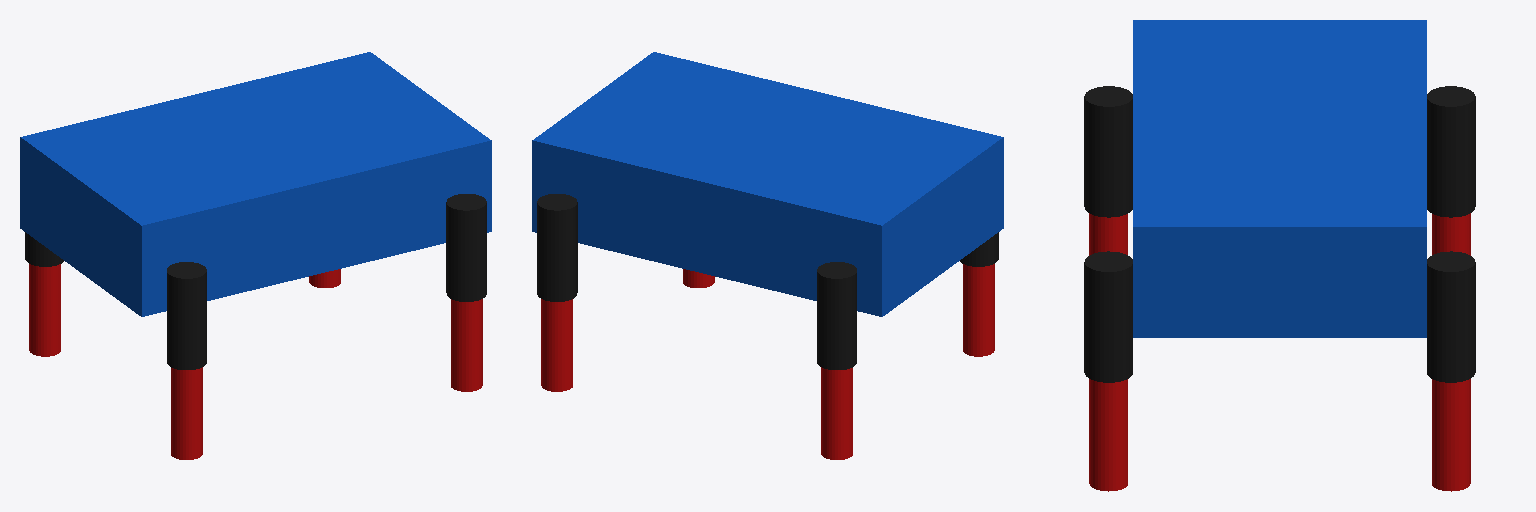
The robot description file, URDF, robot "robot_cuadrupedo":
<?xml version="1.0"?>
<robot name="robot_cuadrupedo">

  <material name="azul"><color rgba="0.1 0.4 0.8 1.0"/></material>
  <material name="rojo"><color rgba="0.8 0.1 0.1 1.0"/></material>
  <material name="negro"><color rgba="0.15 0.15 0.15 1.0"/></material>

  <link name="base_link">
    <inertial>
      <mass value="0.550"/>
      <inertia ixx="0.001" ixy="0.0" ixz="0.0" iyy="0.002" iyz="0.0" izz="0.002"/>
    </inertial>
    <visual>
      <geometry><box size="0.20 0.12 0.05"/></geometry>
      <material name="azul"/>
    </visual>
    <collision>
      <geometry><box size="0.20 0.12 0.05"/></geometry>
    </collision>
  </link>

  <link name="delantera_derecha_thigh">
    <inertial>
      <mass value="0.015"/>
      <inertia ixx="0.0001" ixy="0.0" ixz="0.0" iyy="0.0001" iyz="0.0" izz="0.0001"/>
    </inertial>
    <visual>
      <origin xyz="0 0 -0.025" rpy="0 0 0"/>
      <geometry><cylinder radius="0.01" length="0.05"/></geometry>
      <material name="negro"/>
    </visual>
    <collision>
      <origin xyz="0 0 -0.025" rpy="0 0 0"/>
      <geometry><cylinder radius="0.01" length="0.05"/></geometry>
    </collision>
  </link>

  <joint name="base_to_delantera_derecha_thigh" type="revolute">
    <parent link="base_link"/>
    <child link="delantera_derecha_thigh"/>
    <origin xyz="0.08 -0.07 0" rpy="0 0 -0.7854"/>
    <axis xyz="0 1 0"/>
    <limit lower="-1.57" upper="1.57" effort="0.215" velocity="6.0"/>
  </joint>

  <link name="delantera_derecha_tibia">
    <inertial>
      <mass value="0.015"/>
      <inertia ixx="0.0001" ixy="0.0" ixz="0.0" iyy="0.0001" iyz="0.0" izz="0.0001"/>
    </inertial>
    <visual>
      <origin xyz="0 0 -0.025" rpy="0 0 0"/>
      <geometry><cylinder radius="0.008" length="0.05"/></geometry>
      <material name="rojo"/>
    </visual>
    <collision>
      <origin xyz="0 0 -0.025" rpy="0 0 0"/>
      <geometry><cylinder radius="0.008" length="0.05"/></geometry>
    </collision>
  </link>

  <joint name="delantera_derecha_thigh_to_tibia" type="revolute">
    <parent link="delantera_derecha_thigh"/>
    <child link="delantera_derecha_tibia"/>
    <origin xyz="0 0 -0.05" rpy="0 0 0"/>
    <axis xyz="0 1 0"/>
    <limit lower="-1.57" upper="1.57" effort="0.215" velocity="6.0"/>
  </joint>

  <link name="delantera_izquierda_thigh">
    <inertial>
      <mass value="0.015"/>
      <inertia ixx="0.0001" ixy="0.0" ixz="0.0" iyy="0.0001" iyz="0.0" izz="0.0001"/>
    </inertial>
    <visual>
      <origin xyz="0 0 -0.025" rpy="0 0 0"/>
      <geometry><cylinder radius="0.01" length="0.05"/></geometry>
      <material name="negro"/>
    </visual>
    <collision>
      <origin xyz="0 0 -0.025" rpy="0 0 0"/>
      <geometry><cylinder radius="0.01" length="0.05"/></geometry>
    </collision>
  </link>

  <joint name="base_to_delantera_izquierda_thigh" type="revolute">
    <parent link="base_link"/>
    <child link="delantera_izquierda_thigh"/>
    <origin xyz="0.08 0.07 0" rpy="0 0 0.7854"/>
    <axis xyz="0 1 0"/>
    <limit lower="-1.57" upper="1.57" effort="0.215" velocity="6.0"/>
  </joint>

  <link name="delantera_izquierda_tibia">
    <inertial>
      <mass value="0.015"/>
      <inertia ixx="0.0001" ixy="0.0" ixz="0.0" iyy="0.0001" iyz="0.0" izz="0.0001"/>
    </inertial>
    <visual>
      <origin xyz="0 0 -0.025" rpy="0 0 0"/>
      <geometry><cylinder radius="0.008" length="0.05"/></geometry>
      <material name="rojo"/>
    </visual>
    <collision>
      <origin xyz="0 0 -0.025" rpy="0 0 0"/>
      <geometry><cylinder radius="0.008" length="0.05"/></geometry>
    </collision>
  </link>

  <joint name="delantera_izquierda_thigh_to_tibia" type="revolute">
    <parent link="delantera_izquierda_thigh"/>
    <child link="delantera_izquierda_tibia"/>
    <origin xyz="0 0 -0.05" rpy="0 0 0"/>
    <axis xyz="0 1 0"/>
    <limit lower="-1.57" upper="1.57" effort="0.215" velocity="6.0"/>
  </joint>

  <link name="trasera_derecha_thigh">
    <inertial>
      <mass value="0.015"/>
      <inertia ixx="0.0001" ixy="0.0" ixz="0.0" iyy="0.0001" iyz="0.0" izz="0.0001"/>
    </inertial>
    <visual>
      <origin xyz="0 0 -0.025" rpy="0 0 0"/>
      <geometry><cylinder radius="0.01" length="0.05"/></geometry>
      <material name="negro"/>
    </visual>
    <collision>
      <origin xyz="0 0 -0.025" rpy="0 0 0"/>
      <geometry><cylinder radius="0.01" length="0.05"/></geometry>
    </collision>
  </link>

  <joint name="base_to_trasera_derecha_thigh" type="revolute">
    <parent link="base_link"/>
    <child link="trasera_derecha_thigh"/>
    <origin xyz="-0.08 -0.07 0" rpy="0 0 -2.3562"/>
    <axis xyz="0 1 0"/>
    <limit lower="-1.57" upper="1.57" effort="0.215" velocity="6.0"/>
  </joint>

  <link name="trasera_derecha_tibia">
    <inertial>
      <mass value="0.015"/>
      <inertia ixx="0.0001" ixy="0.0" ixz="0.0" iyy="0.0001" iyz="0.0" izz="0.0001"/>
    </inertial>
    <visual>
      <origin xyz="0 0 -0.025" rpy="0 0 0"/>
      <geometry><cylinder radius="0.008" length="0.05"/></geometry>
      <material name="rojo"/>
    </visual>
    <collision>
      <origin xyz="0 0 -0.025" rpy="0 0 0"/>
      <geometry><cylinder radius="0.008" length="0.05"/></geometry>
    </collision>
  </link>

  <joint name="trasera_derecha_thigh_to_tibia" type="revolute">
    <parent link="trasera_derecha_thigh"/>
    <child link="trasera_derecha_tibia"/>
    <origin xyz="0 0 -0.05" rpy="0 0 0"/>
    <axis xyz="0 1 0"/>
    <limit lower="-1.57" upper="1.57" effort="0.215" velocity="6.0"/>
  </joint>

  <link name="trasera_izquierda_thigh">
    <inertial>
      <mass value="0.015"/>
      <inertia ixx="0.0001" ixy="0.0" ixz="0.0" iyy="0.0001" iyz="0.0" izz="0.0001"/>
    </inertial>
    <visual>
      <origin xyz="0 0 -0.025" rpy="0 0 0"/>
      <geometry><cylinder radius="0.01" length="0.05"/></geometry>
      <material name="negro"/>
    </visual>
    <collision>
      <origin xyz="0 0 -0.025" rpy="0 0 0"/>
      <geometry><cylinder radius="0.01" length="0.05"/></geometry>
    </collision>
  </link>

  <joint name="base_to_trasera_izquierda_thigh" type="revolute">
    <parent link="base_link"/>
    <child link="trasera_izquierda_thigh"/>
    <origin xyz="-0.08 0.07 0" rpy="0 0 2.3562"/>
    <axis xyz="0 1 0"/>
    <limit lower="-1.57" upper="1.57" effort="0.215" velocity="6.0"/>
  </joint>

  <link name="trasera_izquierda_tibia">
    <inertial>
      <mass value="0.015"/>
      <inertia ixx="0.0001" ixy="0.0" ixz="0.0" iyy="0.0001" iyz="0.0" izz="0.0001"/>
    </inertial>
    <visual>
      <origin xyz="0 0 -0.025" rpy="0 0 0"/>
      <geometry><cylinder radius="0.008" length="0.05"/></geometry>
      <material name="rojo"/>
    </visual>
    <collision>
      <origin xyz="0 0 -0.025" rpy="0 0 0"/>
      <geometry><cylinder radius="0.008" length="0.05"/></geometry>
    </collision>
  </link>

  <joint name="trasera_izquierda_thigh_to_tibia" type="revolute">
    <parent link="trasera_izquierda_thigh"/>
    <child link="trasera_izquierda_tibia"/>
    <origin xyz="0 0 -0.05" rpy="0 0 0"/>
    <axis xyz="0 1 0"/>
    <limit lower="-1.57" upper="1.57" effort="0.215" velocity="6.0"/>
  </joint>
</robot>

--- Render facts (derived) ---
The picture shows the robot from 3 angles, left to right: view 1: azimuth 30°, elevation 25°; view 2: azimuth 150°, elevation 25°; view 3: azimuth 270°, elevation 25°; orthographic projection.
Model robot_cuadrupedo with 9 links and 8 joints (8 revolute), rooted at base_link, posed all joints at 0.
Links seen in each view (by area): view 1: base_link, delantera_derecha_thigh, trasera_derecha_thigh, delantera_derecha_tibia, trasera_derecha_tibia, trasera_izquierda_tibia, trasera_izquierda_thigh; view 2: base_link, delantera_izquierda_thigh, trasera_izquierda_thigh, delantera_izquierda_tibia, trasera_izquierda_tibia, trasera_derecha_tibia, trasera_derecha_thigh; view 3: base_link, trasera_derecha_thigh, trasera_izquierda_thigh, delantera_derecha_thigh, delantera_izquierda_thigh, delantera_derecha_tibia, delantera_izquierda_tibia, trasera_derecha_tibia, trasera_izquierda_tibia.
Boxes of the visible links, x1=… form: base_link: x1=20, y1=52, x2=491, y2=316; delantera_derecha_thigh: x1=446, y1=194, x2=486, y2=301; trasera_derecha_thigh: x1=167, y1=262, x2=206, y2=369; delantera_derecha_tibia: x1=451, y1=299, x2=482, y2=391; trasera_derecha_tibia: x1=171, y1=367, x2=202, y2=459; trasera_izquierda_tibia: x1=29, y1=264, x2=60, y2=356; trasera_izquierda_thigh: x1=25, y1=232, x2=63, y2=266; base_link: x1=532, y1=52, x2=1003, y2=316; delantera_izquierda_thigh: x1=537, y1=194, x2=577, y2=301; trasera_izquierda_thigh: x1=817, y1=262, x2=856, y2=369; delantera_izquierda_tibia: x1=541, y1=299, x2=572, y2=391; trasera_izquierda_tibia: x1=821, y1=367, x2=852, y2=459; trasera_derecha_tibia: x1=963, y1=264, x2=994, y2=356; trasera_derecha_thigh: x1=960, y1=232, x2=998, y2=266; base_link: x1=1133, y1=20, x2=1426, y2=337; trasera_derecha_thigh: x1=1084, y1=86, x2=1132, y2=217; trasera_izquierda_thigh: x1=1427, y1=86, x2=1475, y2=217; delantera_derecha_thigh: x1=1084, y1=251, x2=1132, y2=382; delantera_izquierda_thigh: x1=1427, y1=251, x2=1475, y2=382; delantera_derecha_tibia: x1=1089, y1=379, x2=1127, y2=491; delantera_izquierda_tibia: x1=1432, y1=379, x2=1470, y2=491; trasera_derecha_tibia: x1=1089, y1=213, x2=1127, y2=255; trasera_izquierda_tibia: x1=1432, y1=213, x2=1470, y2=255.
Size in the robot's own frame: 0.2 by 0.16 by 0.125 metres.
Geometry: primitives only (box / cylinder / sphere), no mesh files.
